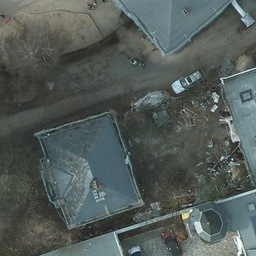car: (173, 68, 205, 93)
